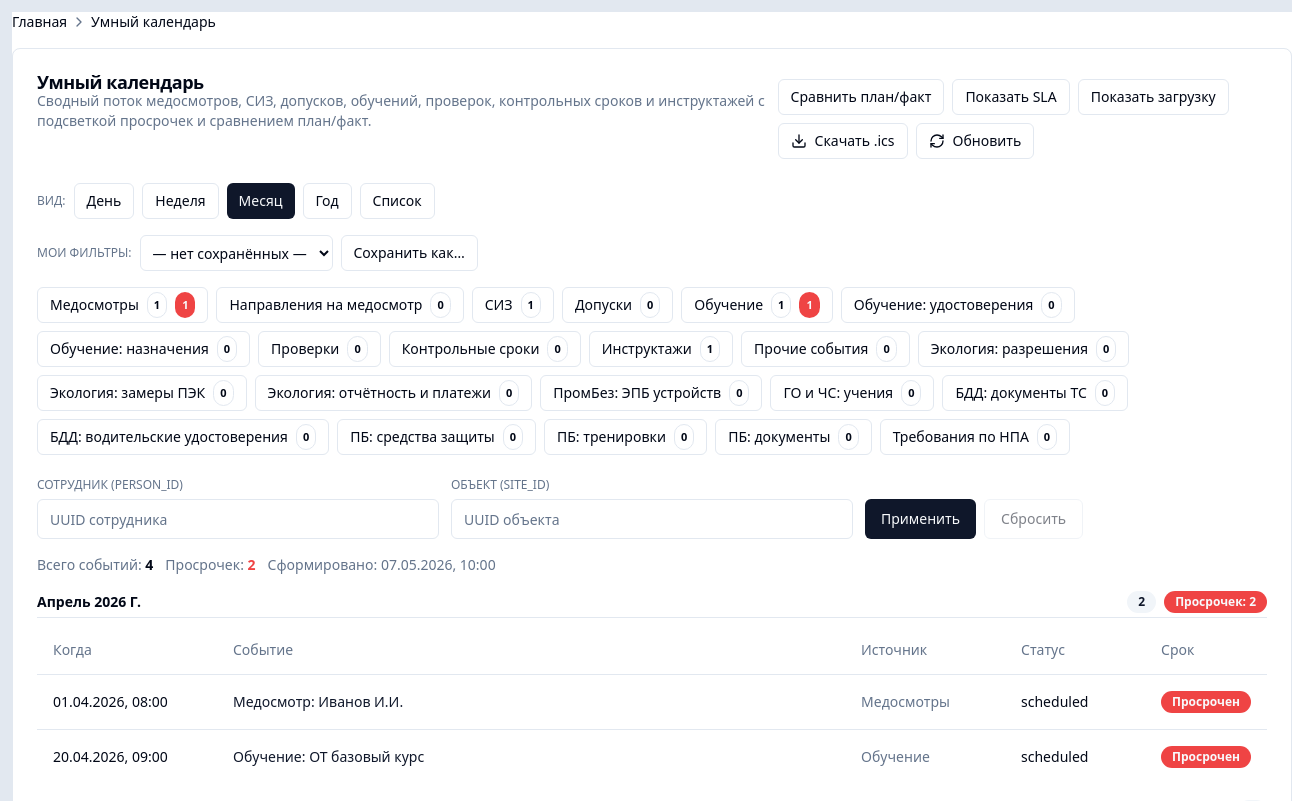
Test: CalendarPage › shows a conflict error message when name is already taken
Expected: the link "Медосмотр: Иванов И.И." is shown, [233,692,403,710]
Click the button with test id "saved-views-save" at (409,253), box [340,235,478,271]
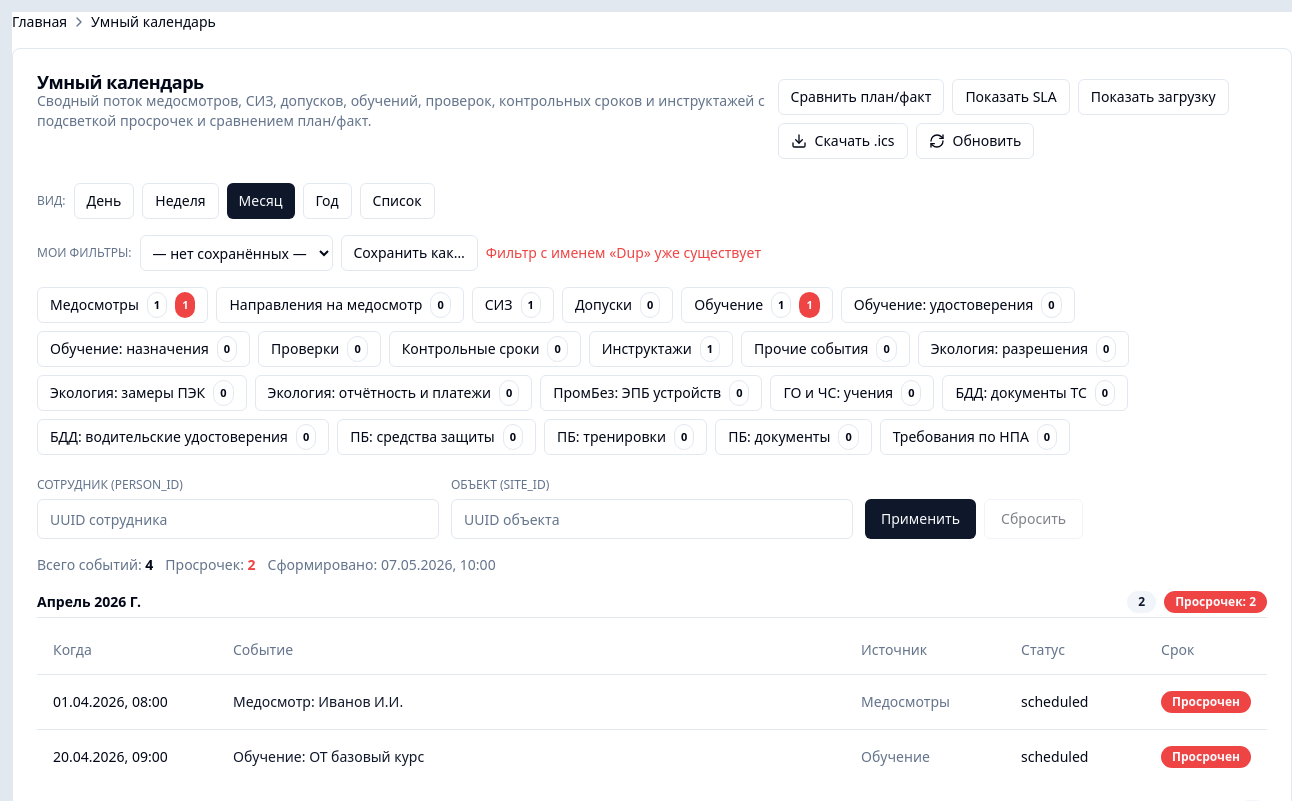
Expected: the message with test id "saved-views-error" shows "Dup", [486,243,761,262]
